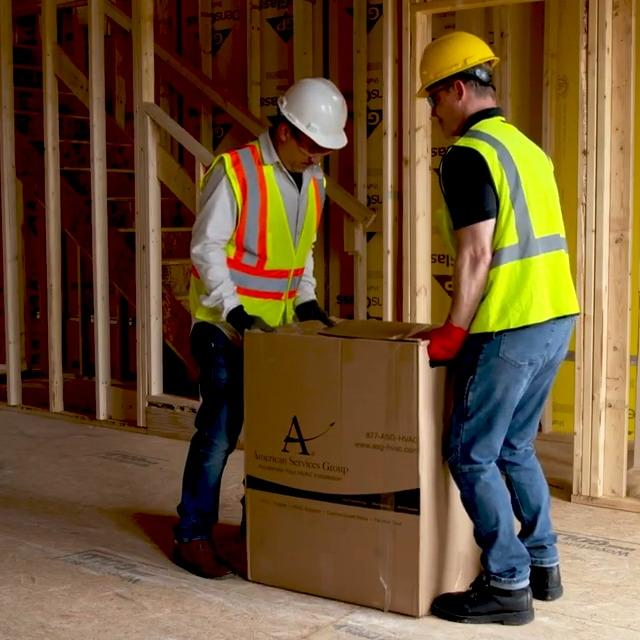Gloves: (422, 323, 466, 368), (229, 306, 274, 336), (299, 300, 333, 328)
Hardhat: (416, 34, 497, 94), (281, 77, 348, 148)
NO-Mask: (435, 111, 460, 134), (289, 150, 308, 172)
Person: (415, 33, 587, 623), (171, 73, 347, 571)
Safety Vest: (443, 117, 583, 330), (186, 140, 325, 339)
